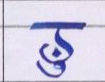u_matra: (36, 61, 68, 78)
